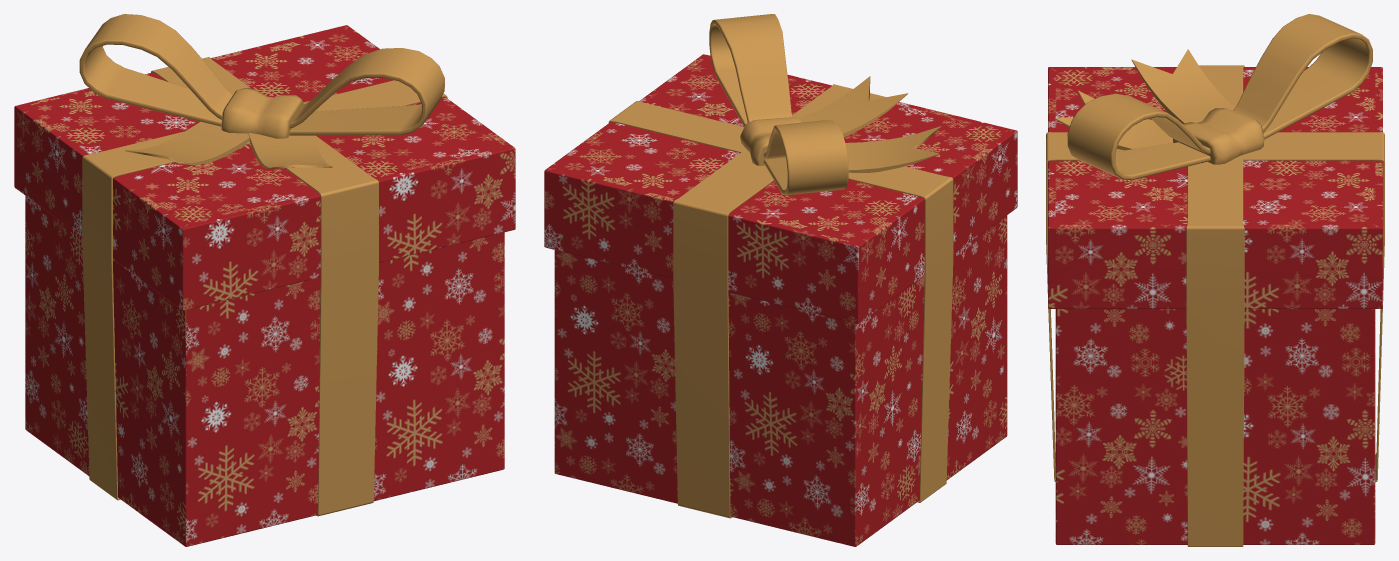
File: gift_box.glb
3 views of the same model, side by side, from view 1: azimuth 30°, elevation 25°; view 2: azimuth 150°, elevation 25°; view 3: azimuth 270°, elevation 25° (orthographic). The views are drawn at different scales.
Parts seen in each view (by area): view 1: Box_giftbox_0; view 2: Box_giftbox_0; view 3: Box_giftbox_0.
Part boxes in pixels (x1,y1,x2,y2): Box_giftbox_0: [14, 14, 515, 546]; Box_giftbox_0: [544, 14, 1017, 546]; Box_giftbox_0: [1046, 14, 1384, 546].
Bounding box in the file's own units: 0.1711 × 0.1971 × 0.1504.
1 material, 1 textured.
